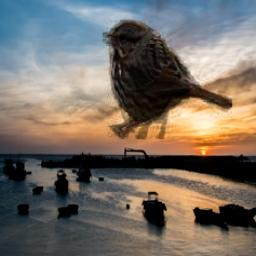Sparrow: (103, 16, 232, 139)
